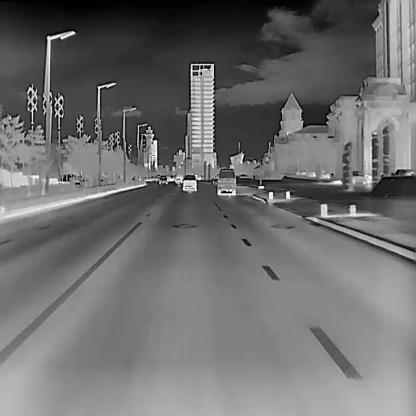car: (217, 168, 236, 197), (181, 174, 196, 192), (175, 172, 184, 184), (157, 173, 166, 184)
